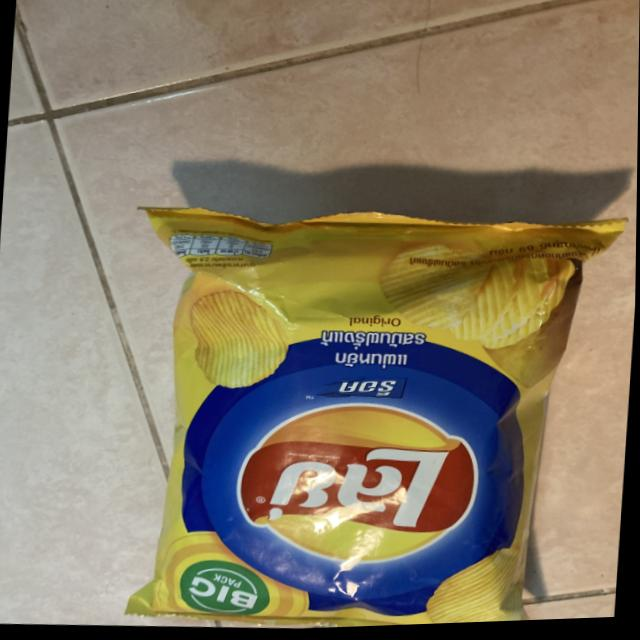LayYellow: (124, 160, 623, 636)
